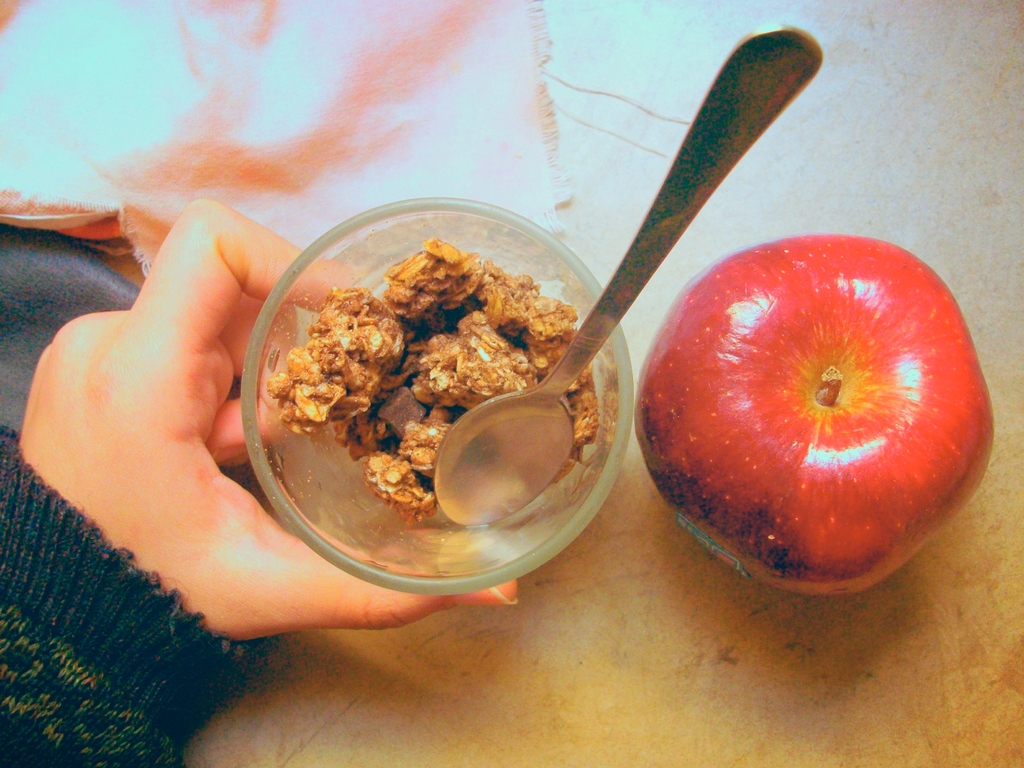Apple: (605, 213, 989, 599)
